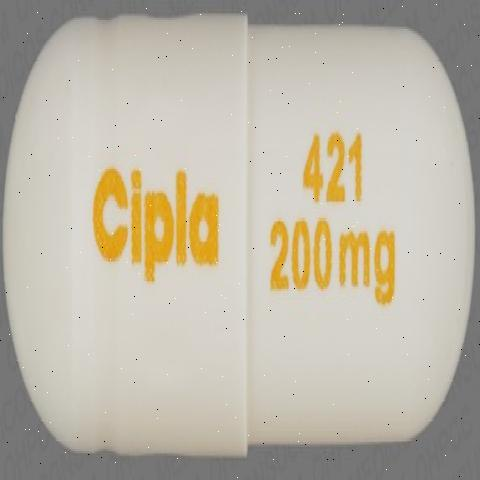Pill: (4, 12, 480, 460)
